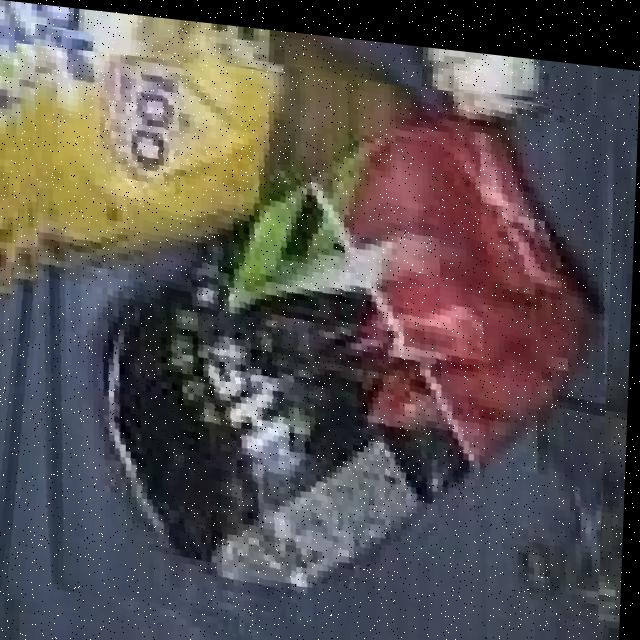litter: (34, 78, 613, 602)
